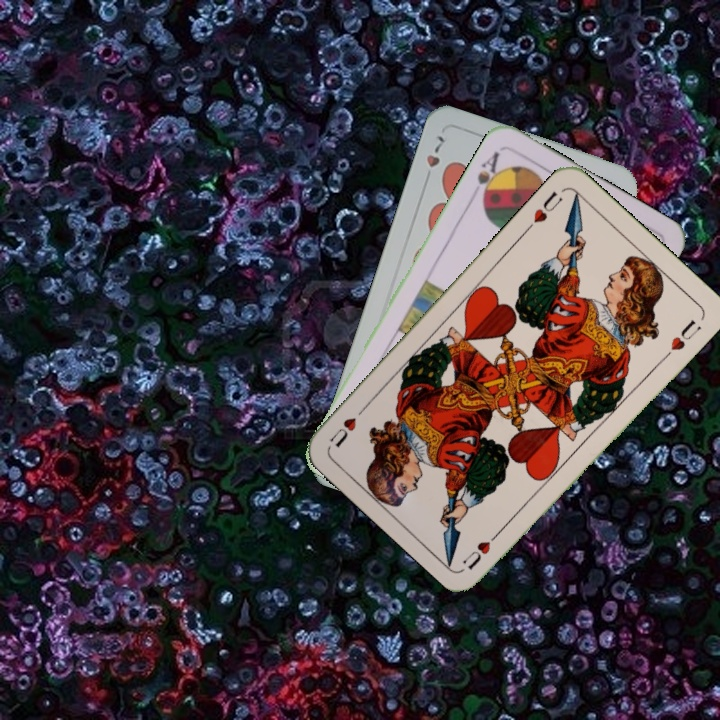H7: (420, 131, 448, 186)
HU: (459, 524, 506, 573), (522, 187, 566, 234)
SA: (467, 147, 505, 205)
